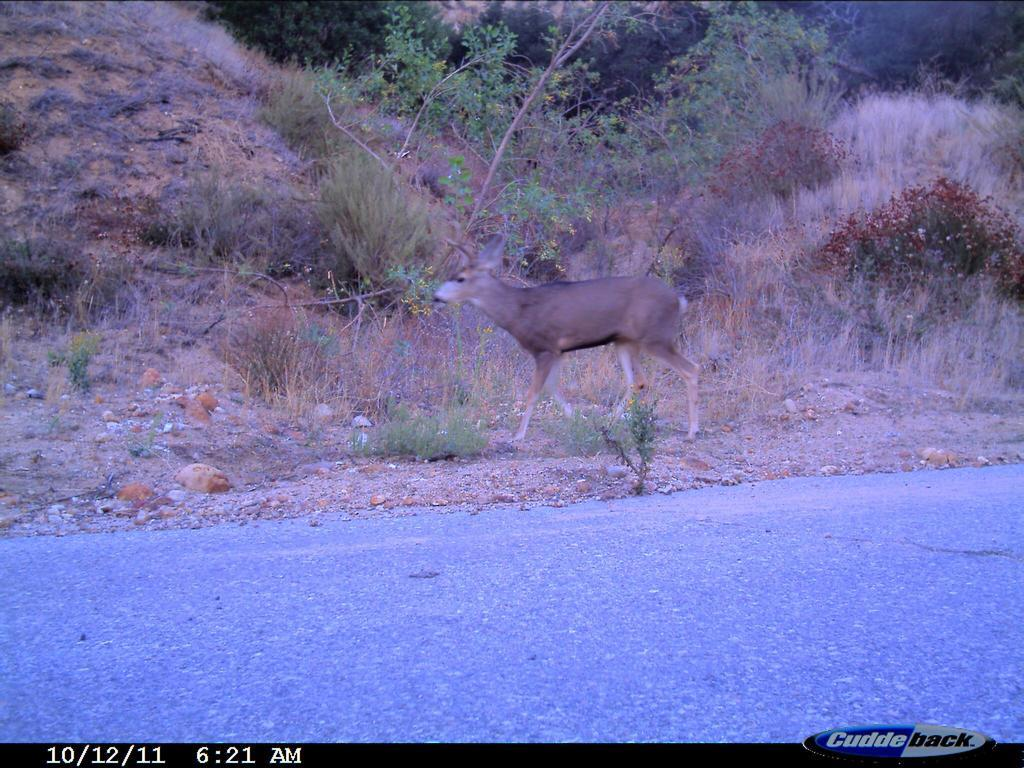deer: (420, 225, 719, 456)
